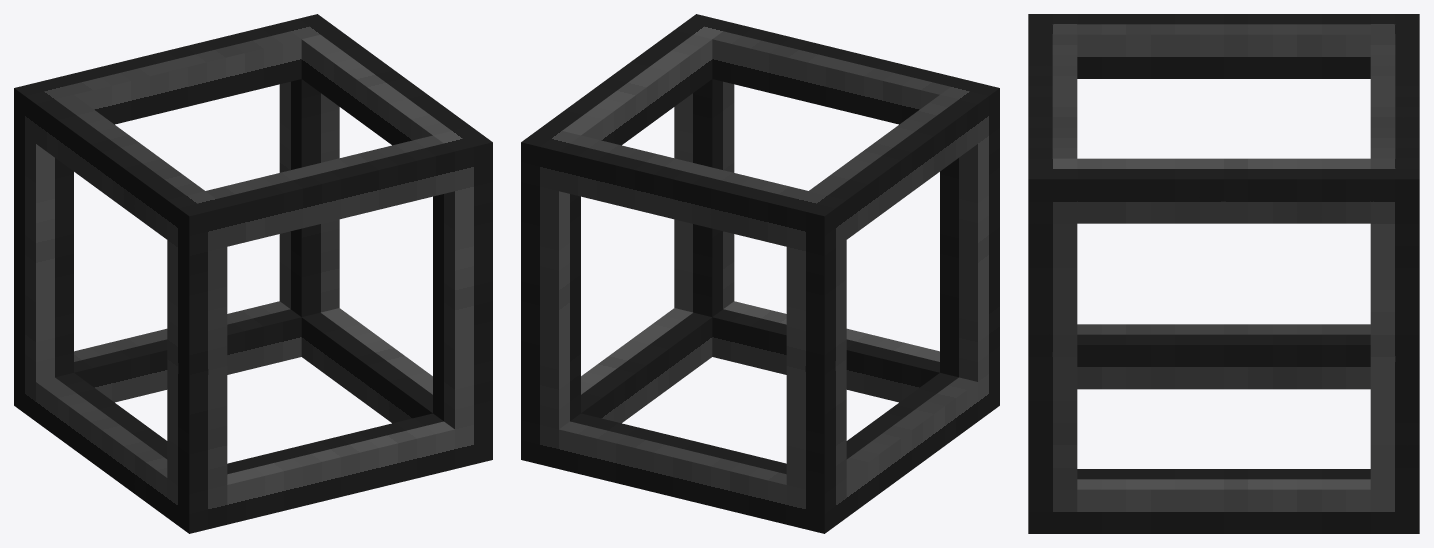
File: case.obj
The picture shows the model from 3 angles, left to right: view 1: azimuth 30°, elevation 25°; view 2: azimuth 150°, elevation 25°; view 3: azimuth 270°, elevation 25°; orthographic projection. The views are drawn at different scales.
Parts seen in each view (by area): view 1: cube.019; view 2: cube.019; view 3: cube.019.
Part boxes in pixels (x1,y1,x2,y2): cube.019: [14, 14, 492, 533]; cube.019: [521, 14, 999, 533]; cube.019: [1028, 14, 1419, 533].
Bounding box in the file's own units: 1 × 1 × 1.
